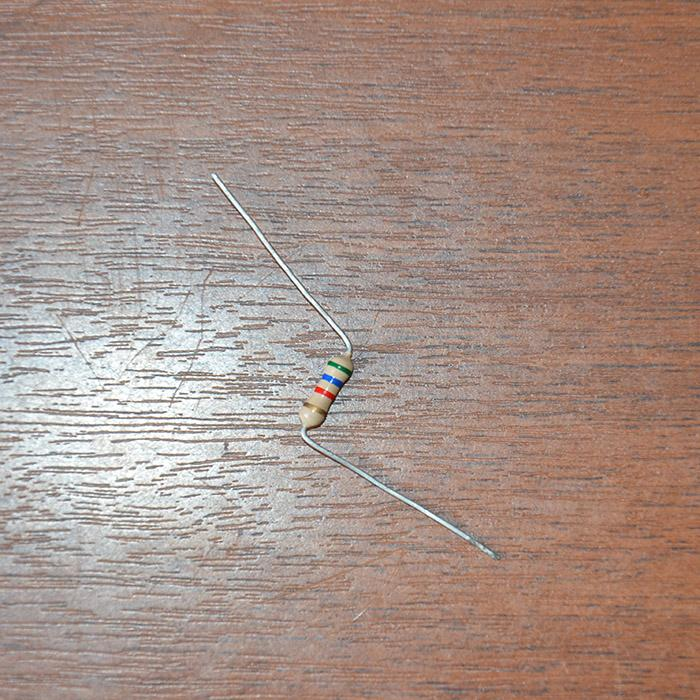resistor: (299, 352, 353, 428)
